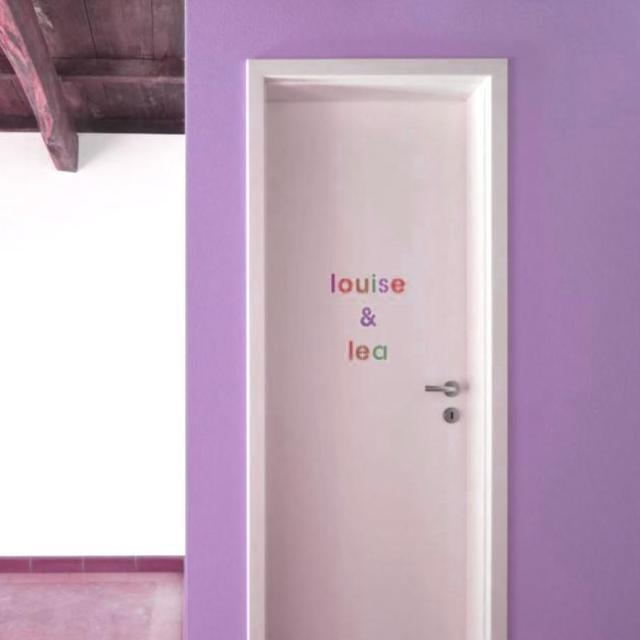door: (244, 57, 508, 639)
